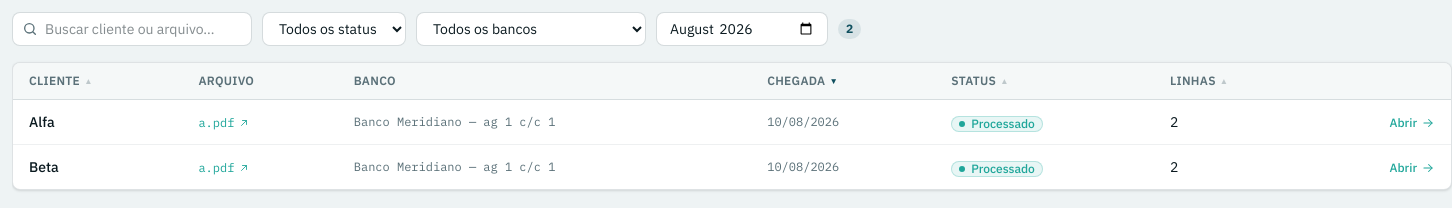
Scenario: filtra por busca
In the search field labelled "Buscar cliente ou arquivo…": (132, 29) [12, 12, 252, 46], type "beta"
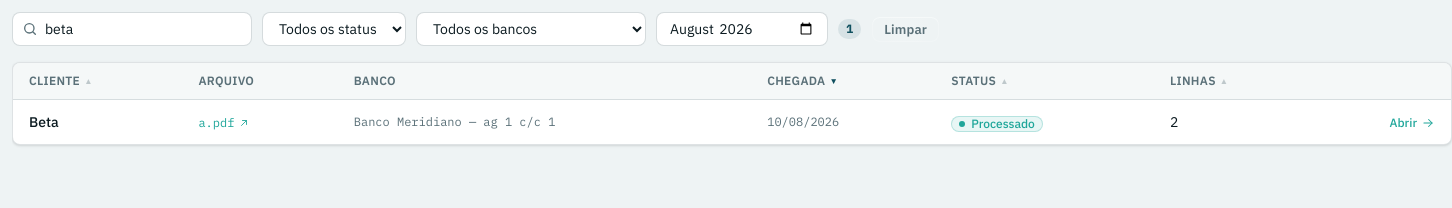
Expected: the text "Beta" is shown, [13, 100, 182, 144]
Now the text "Alfa" is gone
